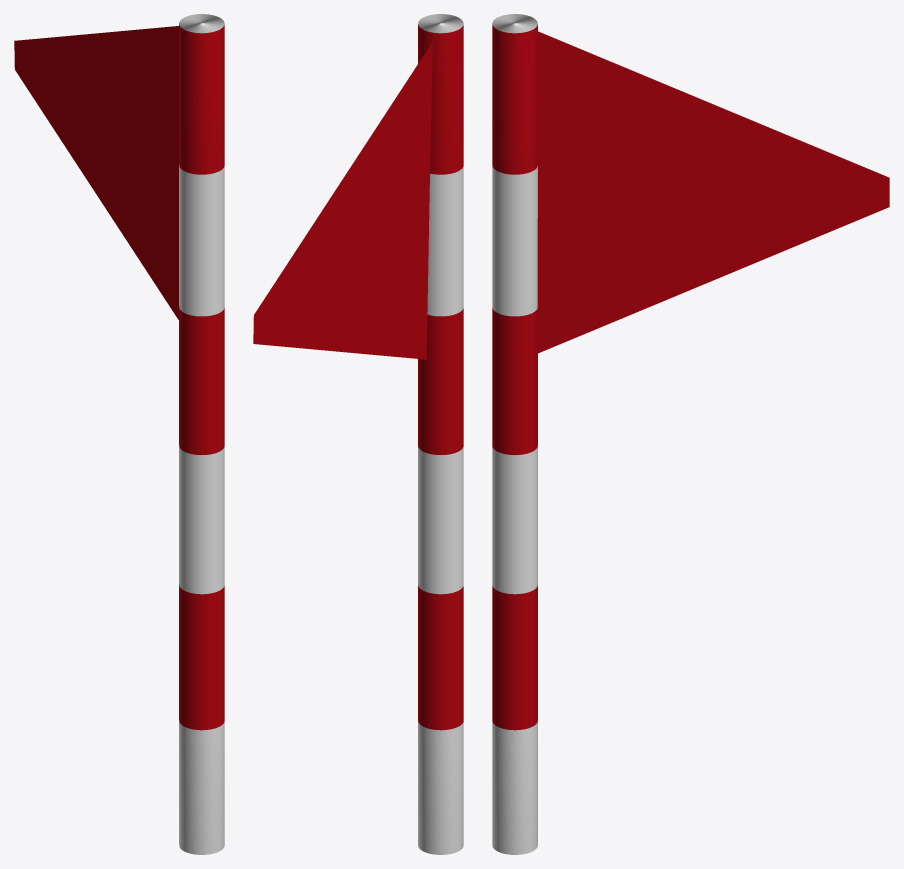
Rendered from flag.glb.
The picture shows the model from 3 angles, left to right: view 1: azimuth 30°, elevation 25°; view 2: azimuth 150°, elevation 25°; view 3: azimuth 270°, elevation 25°; orthographic projection.
Parts seen in each view (by area): view 1: Cylinder, Plane; view 2: Cylinder, Plane; view 3: Plane, Cylinder.
Boxes of the visible parts, x1,y1,x2,y2 form: Cylinder: [179, 14, 224, 854]; Plane: [14, 26, 178, 319]; Cylinder: [418, 14, 463, 854]; Plane: [253, 42, 432, 359]; Plane: [537, 31, 889, 353]; Cylinder: [492, 14, 537, 854].
Size of the model in its own units: 0.2545 by 5.06 by 2.22.
